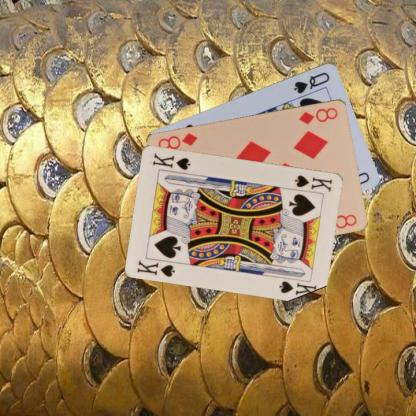8d: (296, 104, 340, 126)
Ks: (292, 172, 335, 193), (134, 257, 176, 278)
Qs: (291, 69, 331, 95)
